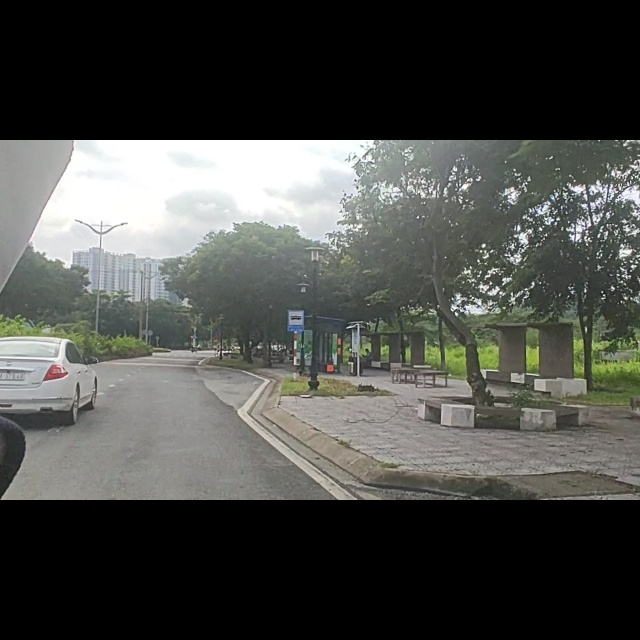bien_hieu_lenh: (286, 296, 309, 346)
